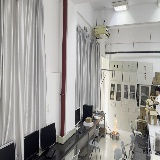fire: (112, 116, 117, 134)
